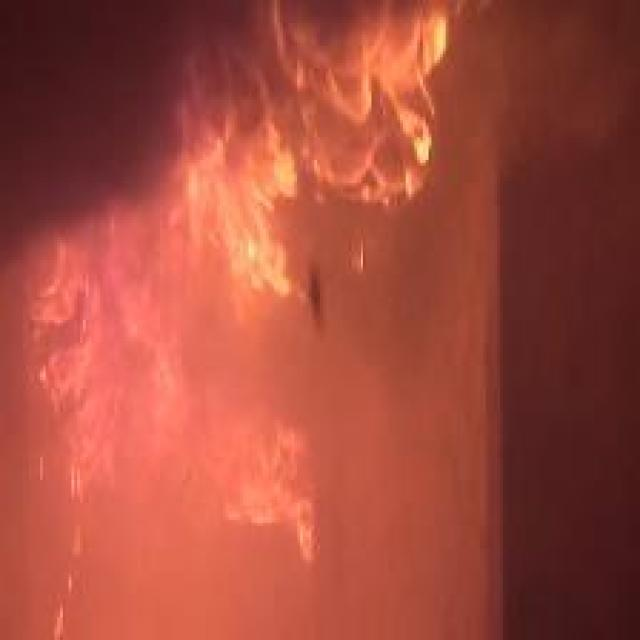fire: (18, 15, 460, 551)
